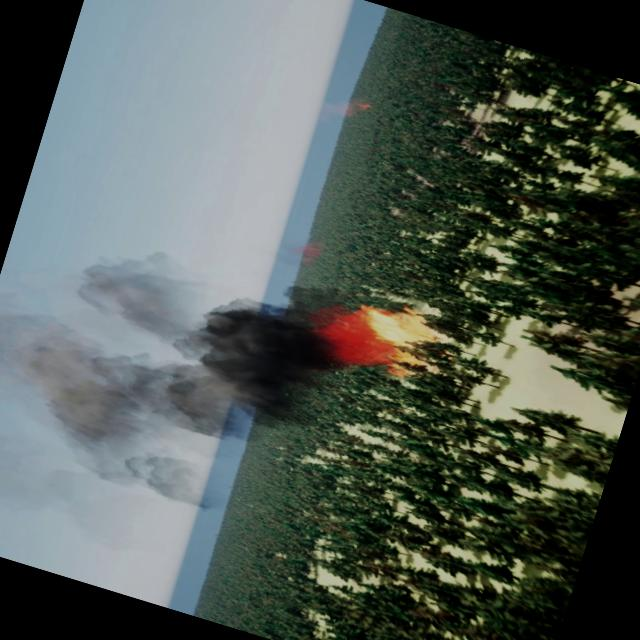fire: (325, 286, 447, 384)
smoke: (0, 191, 351, 531), (324, 86, 374, 122), (288, 230, 326, 264)
